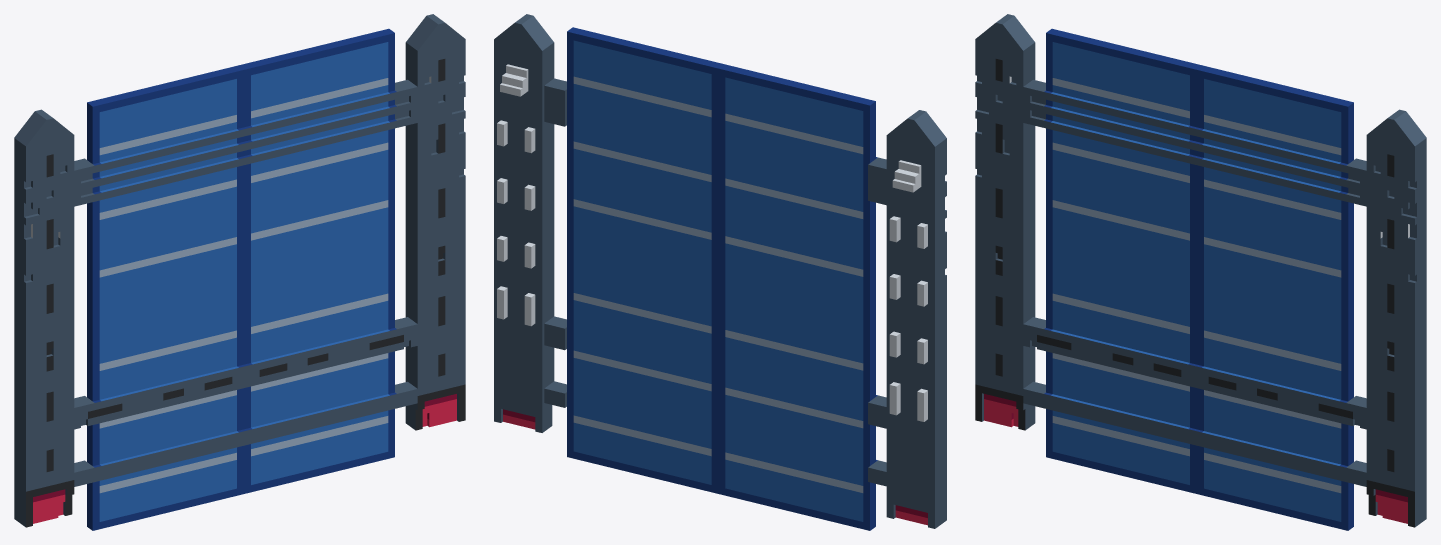
The model's file is EnergyShip.fbx.
3 views of the same model, side by side, from view 1: azimuth 30°, elevation 25°; view 2: azimuth 150°, elevation 25°; view 3: azimuth 330°, elevation 25° (orthographic).
Visible parts, largest first — view 1: generated; view 2: generated; view 3: generated.
Part boxes in pixels (left/top/right/bottom): generated: left=14, top=14, right=465, bottom=530; generated: left=494, top=14, right=946, bottom=530; generated: left=975, top=14, right=1426, bottom=530.
Bounding box in the file's own units: 640 × 590 × 50.
